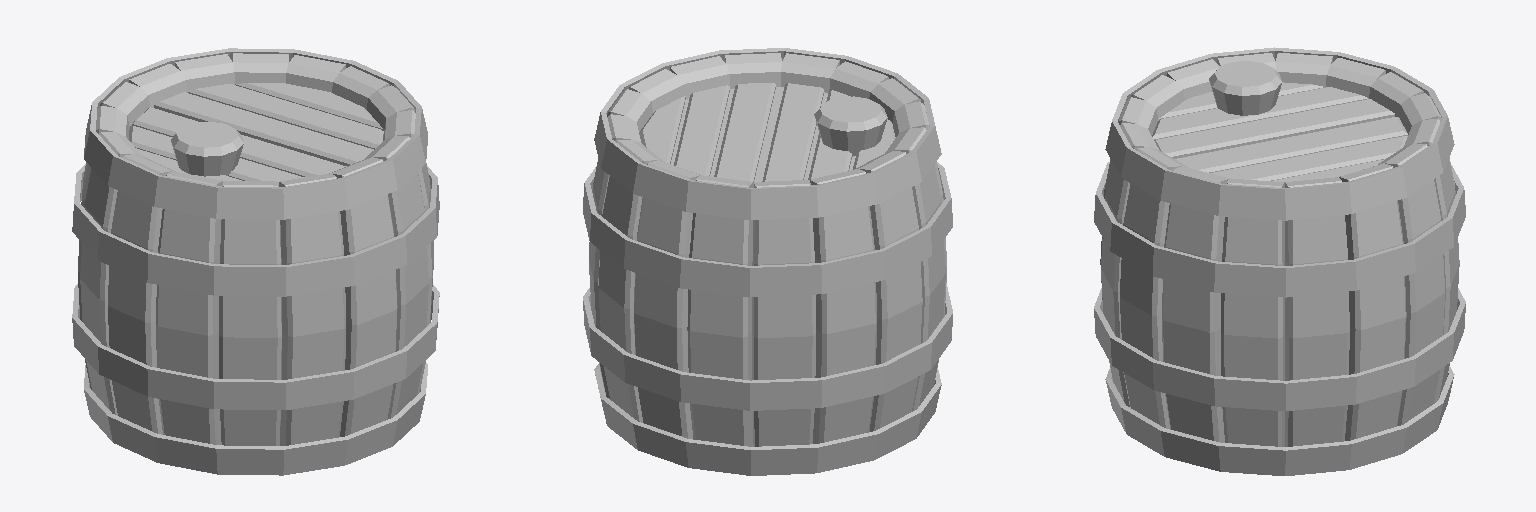
File: Barrel1.obj
The picture shows the model from 3 angles: view 1: azimuth 30°, elevation 25°; view 2: azimuth 150°, elevation 25°; view 3: azimuth 270°, elevation 25°; orthographic projection.
Visible parts, largest first — view 1: Barrel2; view 2: Barrel2; view 3: Barrel2.
Boxes of the visible parts, <box> form: Barrel2: <box>72,48,439,475</box>; Barrel2: <box>583,48,952,475</box>; Barrel2: <box>1094,47,1465,475</box>.
Bounding box in the file's own units: 3.69 × 3.28 × 3.69.